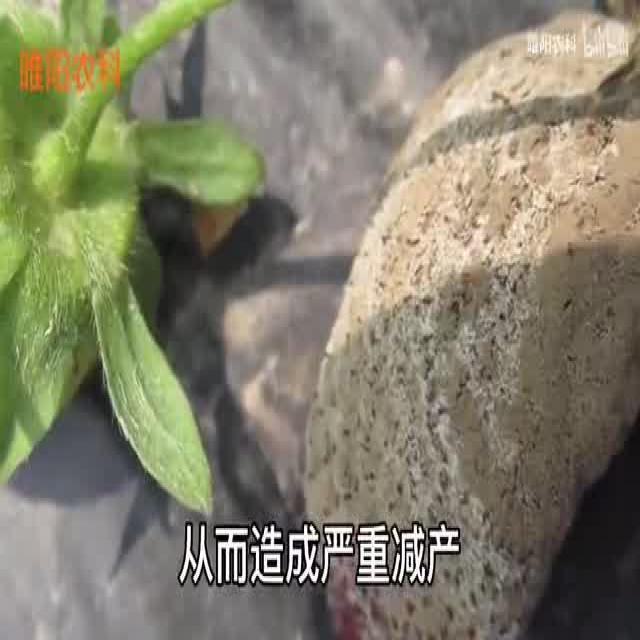Moho gris: (321, 46, 627, 614)
